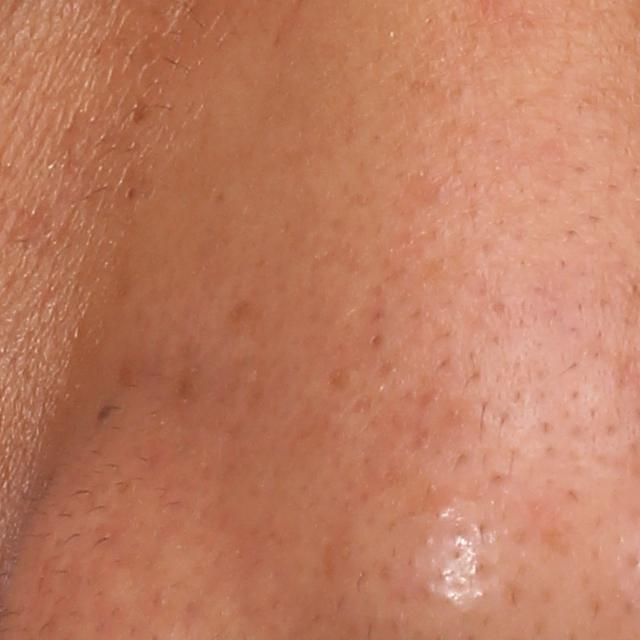comedo: (122, 184, 139, 204)
nevus: (94, 396, 110, 425)
